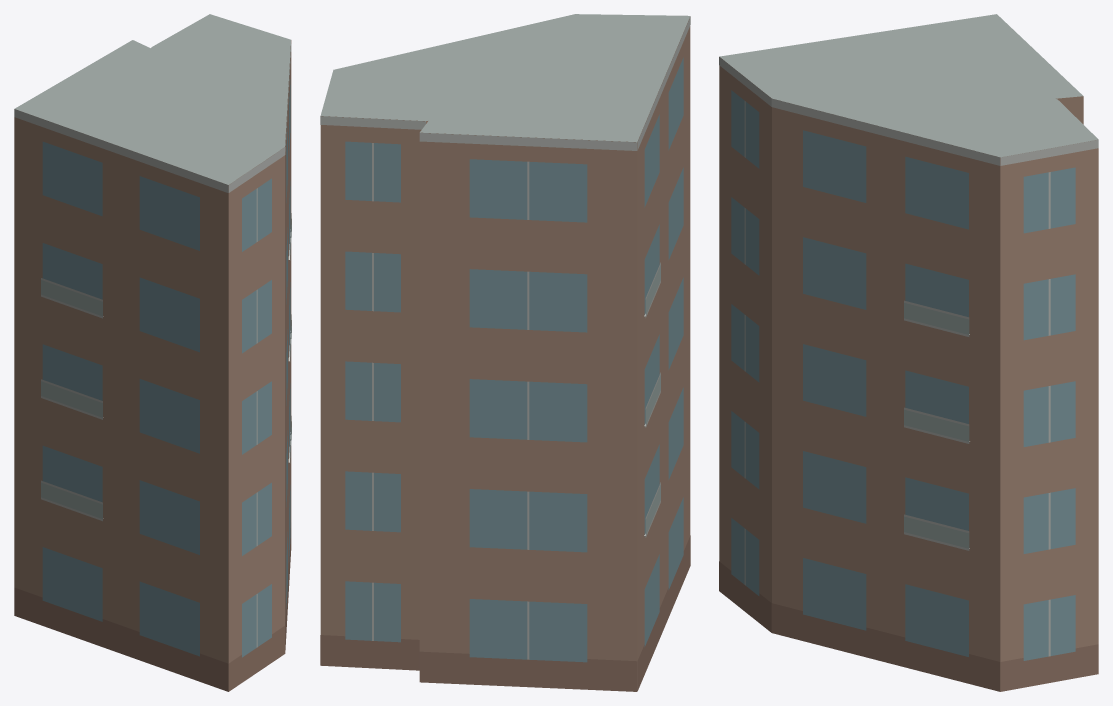
Rendered from survey-upis-32734774.glb.
The picture shows the model from 3 angles, left to right: view 1: azimuth 30°, elevation 25°; view 2: azimuth 150°, elevation 25°; view 3: azimuth 270°, elevation 25°; orthographic projection. The views are drawn at different scales.
Visible parts, largest first — view 1: survey-upis-32734774.tmp; view 2: survey-upis-32734774.tmp; view 3: survey-upis-32734774.tmp.
Boxes of the visible parts, <box> form: survey-upis-32734774.tmp: <box>14,14,291,691</box>; survey-upis-32734774.tmp: <box>320,14,690,691</box>; survey-upis-32734774.tmp: <box>719,14,1098,691</box>.
Size of the model in its own units: 8.69 by 15.1 by 9.73.
